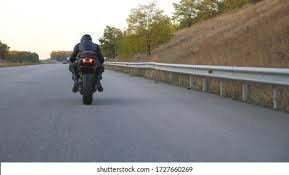motor: (73, 54, 103, 99)
